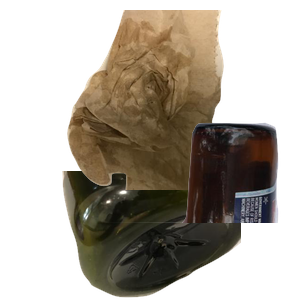glass: (87, 120, 300, 300)
metal: (90, 44, 289, 195)
plastic: (60, 171, 300, 300)
trash: (65, 10, 300, 190)
